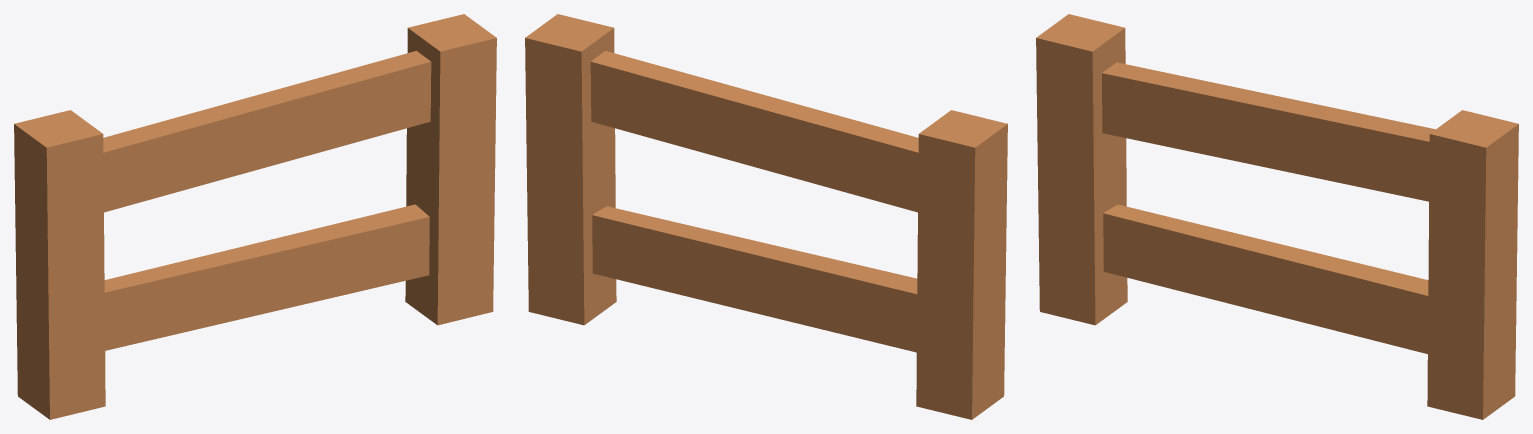
File: Fence_02.fbx
3 renders of one model, left to right at view 1: azimuth 30°, elevation 25°; view 2: azimuth 150°, elevation 25°; view 3: azimuth 330°, elevation 25°, orthographic.
Visible parts, largest first — view 1: Fence_02; view 2: Fence_02; view 3: Fence_02.
Boxes of the visible parts, box(x1,y1,x2,y2) form: Fence_02: box(14, 14, 496, 419); Fence_02: box(525, 14, 1007, 419); Fence_02: box(1036, 14, 1518, 419).
Size of the model in its own units: 247 by 143 by 31.09.
